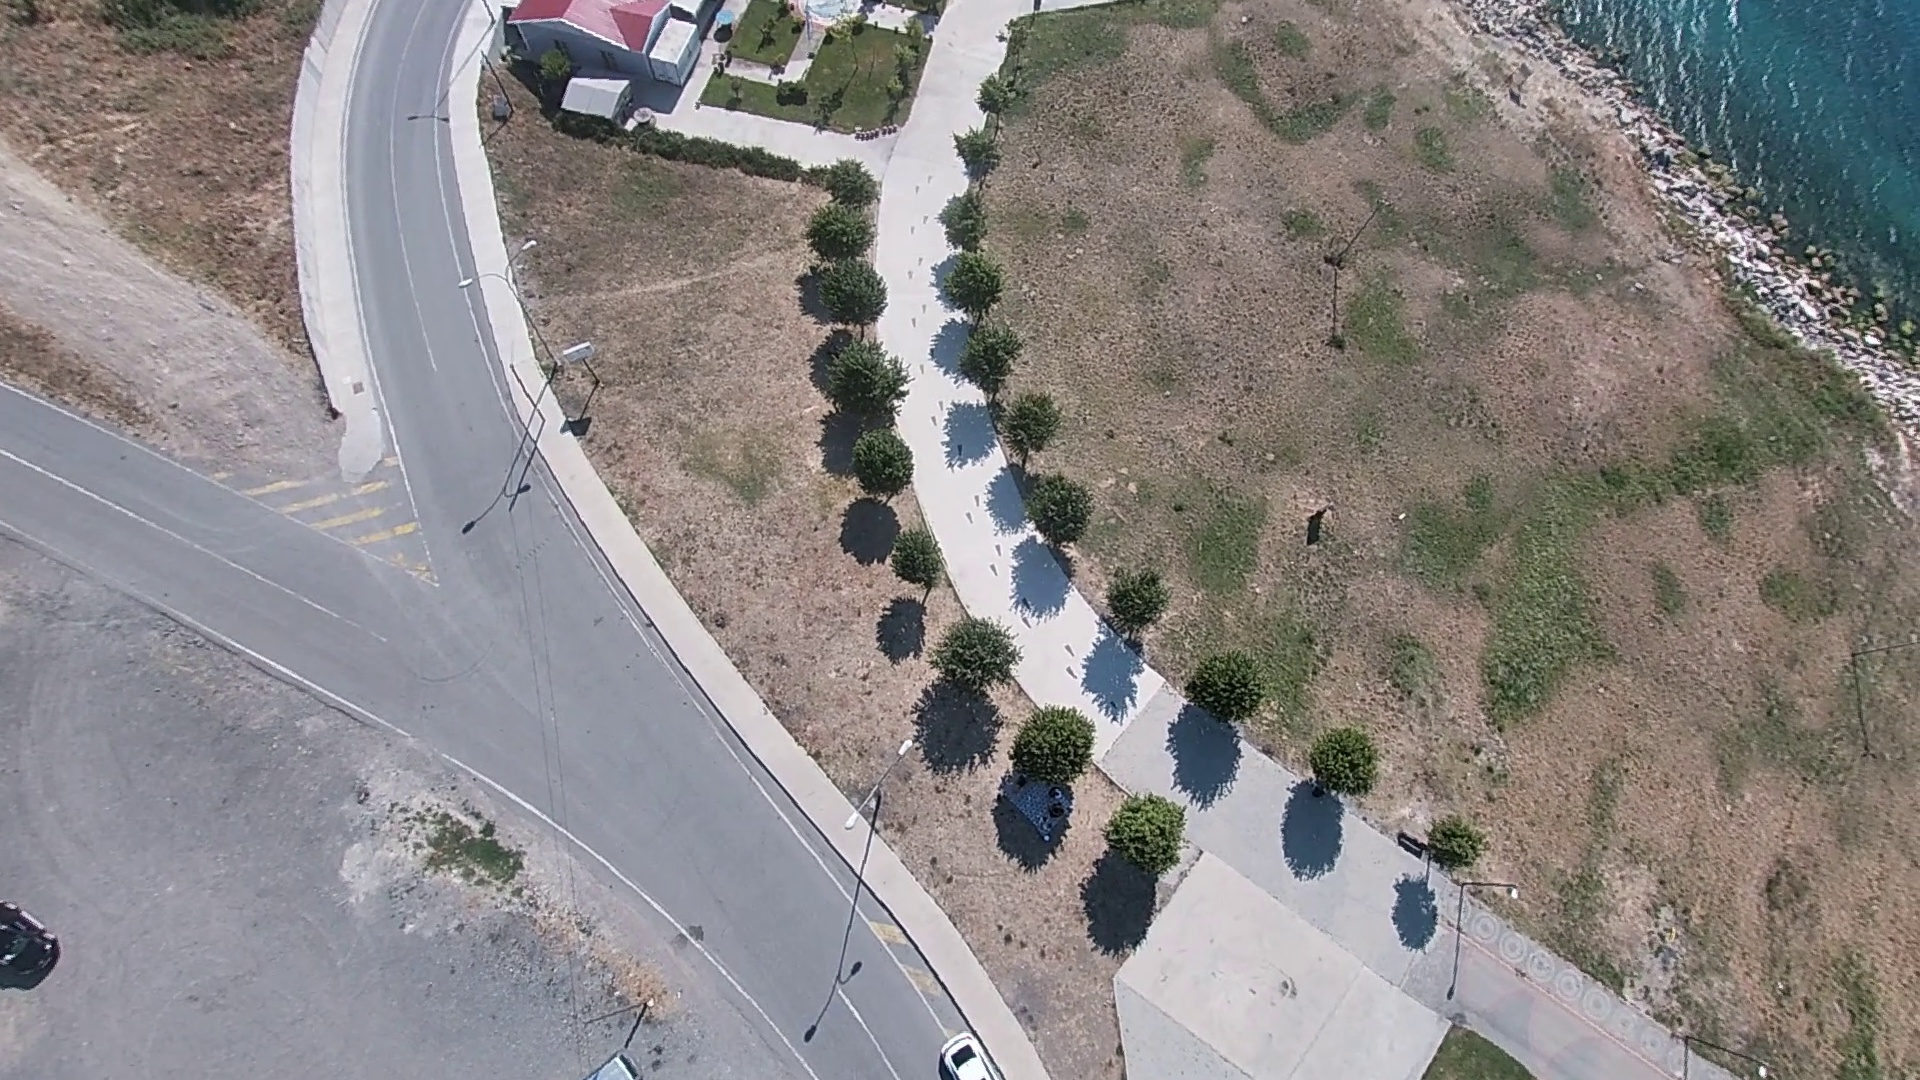arac: (3, 898, 63, 979)
insan: (1303, 507, 1326, 548)
